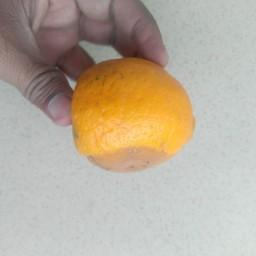Bad_orange: (70, 56, 198, 177)
